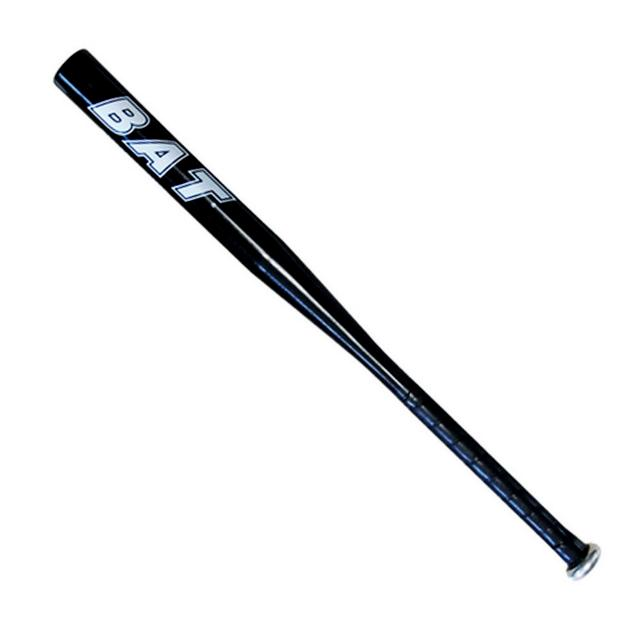baseball bat: (34, 19, 616, 600)
